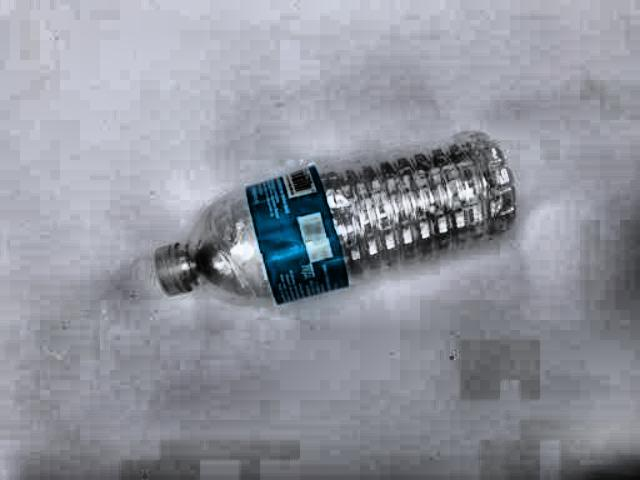Bottles: (141, 120, 548, 331)
